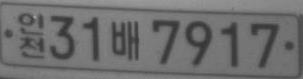1: (217, 21, 246, 68), (80, 16, 106, 61)
3: (49, 15, 75, 60)
7: (151, 18, 180, 64), (250, 22, 279, 68)
9: (183, 19, 213, 66)
배: (110, 20, 141, 61)
인천_V: (16, 12, 46, 59)
